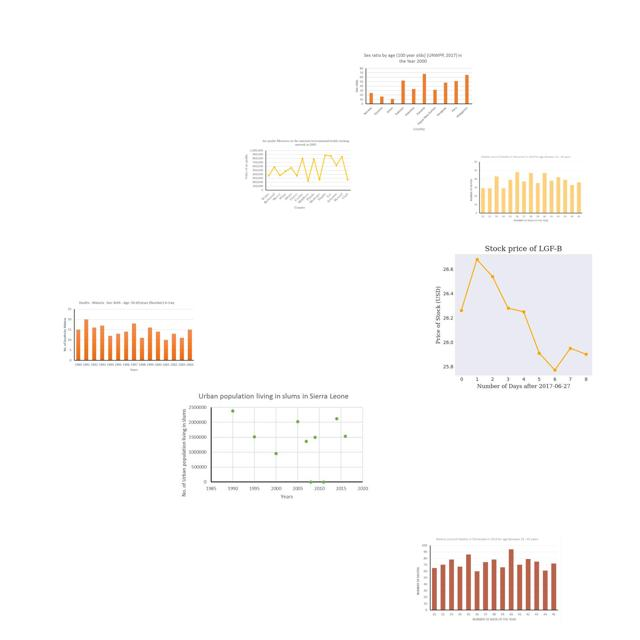Graph: (416, 235, 626, 393), (176, 389, 370, 501), (413, 535, 562, 625), (59, 298, 197, 374), (352, 50, 473, 132), (467, 154, 585, 225), (243, 138, 353, 211)
